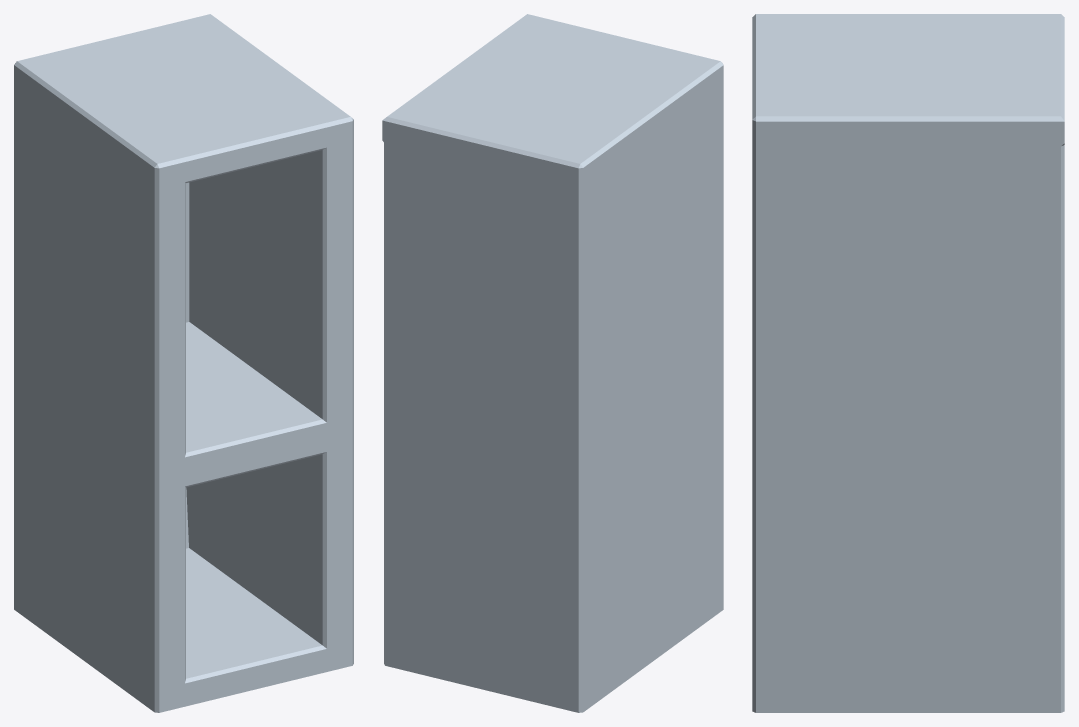
File: locker.glb
3 views of the same model, side by side, from view 1: azimuth 30°, elevation 25°; view 2: azimuth 150°, elevation 25°; view 3: azimuth 270°, elevation 25° (orthographic). The views are drawn at different scales.
Visible parts, largest first — view 1: locker-col; view 2: locker-col; view 3: locker-col.
Boxes of the visible parts, x1,y1,x2,y2 form: locker-col: [14, 14, 353, 712]; locker-col: [382, 14, 723, 712]; locker-col: [752, 14, 1064, 712].
Size of the model in its own units: 0.8 by 2.1 by 1.
